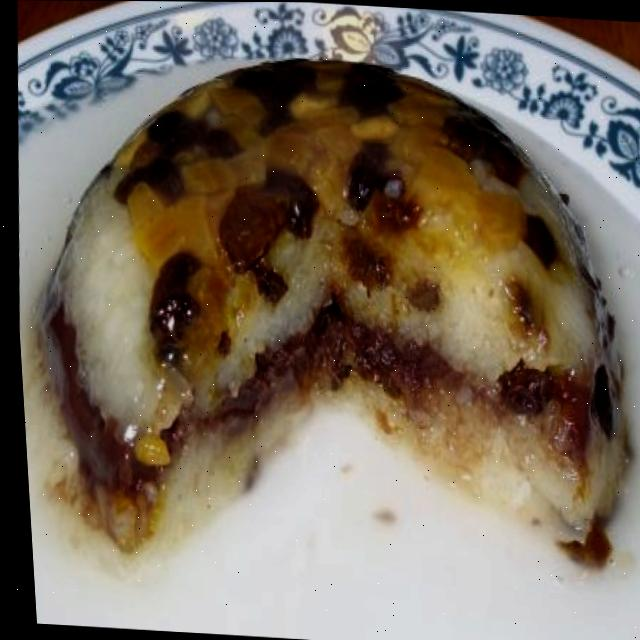米饭主食: (26, 24, 640, 632)
